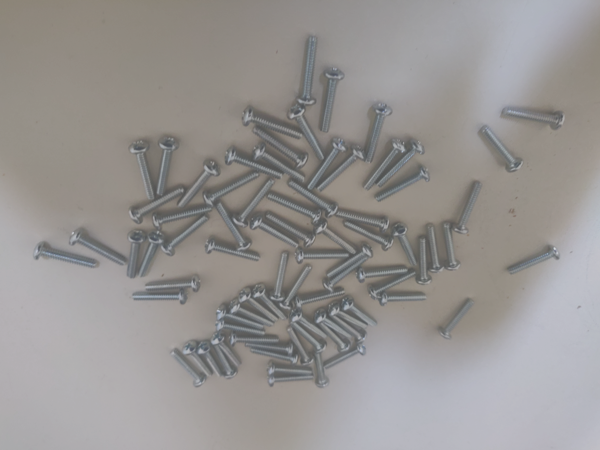longscrew: (251, 123, 308, 172), (68, 228, 127, 267), (361, 140, 405, 191), (242, 107, 306, 142), (378, 139, 423, 188), (224, 148, 283, 185), (174, 161, 219, 209), (253, 146, 306, 184), (481, 125, 522, 174), (511, 244, 561, 284), (130, 187, 183, 224), (163, 215, 205, 261), (268, 194, 323, 229), (282, 182, 337, 217), (320, 147, 363, 191), (307, 139, 344, 190), (313, 68, 342, 133), (448, 181, 484, 233), (379, 165, 429, 202), (32, 242, 100, 269), (327, 241, 377, 277), (232, 180, 271, 226), (291, 105, 322, 160), (150, 135, 178, 195), (343, 220, 395, 252), (205, 173, 256, 205), (324, 258, 369, 293), (216, 204, 250, 250), (363, 104, 389, 163), (253, 214, 298, 248), (270, 214, 315, 248), (371, 269, 418, 301), (301, 31, 320, 107), (240, 287, 278, 325), (495, 108, 568, 127), (441, 299, 474, 340), (279, 266, 310, 308), (205, 240, 263, 262), (138, 232, 165, 279), (153, 206, 213, 227), (218, 308, 270, 332), (296, 244, 355, 265), (230, 298, 277, 324), (335, 210, 391, 230), (326, 345, 369, 371), (182, 342, 212, 379), (133, 142, 152, 200), (214, 333, 244, 369), (327, 314, 367, 341), (209, 342, 238, 379), (297, 287, 348, 308), (124, 230, 146, 278), (254, 288, 286, 321), (319, 223, 353, 254), (174, 352, 203, 388), (198, 344, 227, 380), (343, 299, 380, 327), (271, 250, 289, 305), (133, 292, 190, 309), (147, 278, 204, 295), (316, 313, 353, 339), (359, 265, 412, 283), (329, 306, 368, 330), (293, 326, 326, 354), (288, 327, 311, 367), (291, 313, 329, 336), (445, 220, 460, 274), (401, 222, 417, 271), (268, 373, 315, 389), (269, 364, 316, 380), (253, 350, 300, 366), (231, 332, 278, 348), (219, 320, 265, 336), (247, 342, 294, 357), (321, 327, 348, 352), (429, 221, 441, 277), (382, 293, 432, 305), (419, 235, 430, 287), (316, 351, 329, 389)
